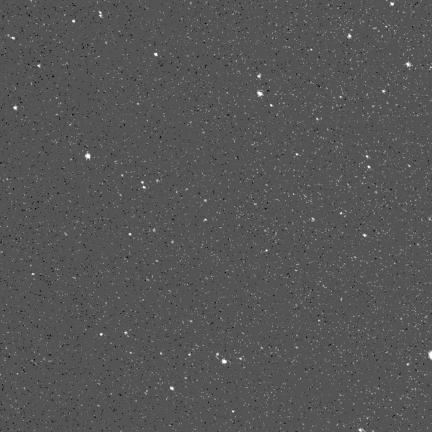blob: (257, 91, 263, 97), (85, 152, 90, 159), (222, 359, 227, 364), (382, 90, 386, 94), (390, 2, 394, 6), (257, 74, 261, 78), (100, 333, 104, 337), (348, 34, 351, 38), (363, 234, 367, 237), (170, 387, 174, 390), (154, 53, 158, 56), (368, 166, 371, 169)
